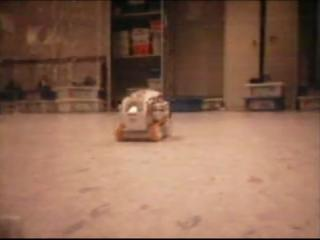cozmo: (113, 87, 172, 142)
